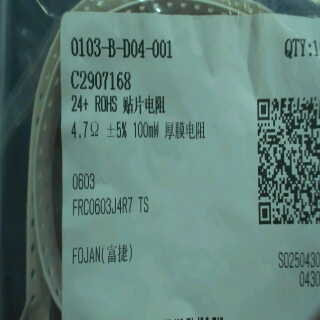4.7R: (68, 117, 105, 146)
